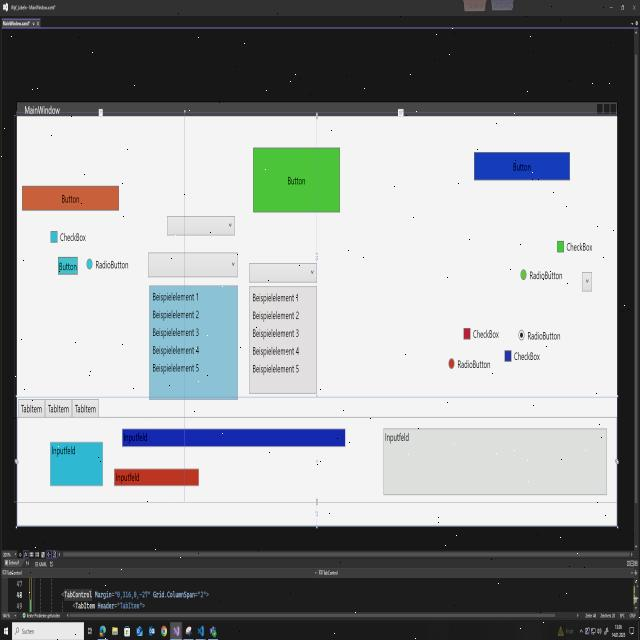button: (251, 141, 342, 217), (472, 148, 572, 184), (20, 180, 120, 215), (55, 252, 80, 278)
checkbox: (50, 230, 58, 244), (463, 327, 471, 341), (504, 349, 512, 363), (556, 240, 564, 253)
dropdownMenu: (147, 251, 238, 401), (248, 262, 318, 394), (167, 215, 235, 236), (581, 270, 593, 293)
input: (382, 426, 608, 498), (120, 425, 347, 450), (49, 437, 104, 490), (112, 465, 200, 490)
label: (528, 331, 562, 342), (457, 359, 491, 370), (529, 270, 563, 280), (473, 328, 499, 340), (95, 260, 128, 269), (566, 242, 592, 253), (514, 351, 540, 362), (60, 232, 86, 242)
menuItem: (252, 292, 300, 304), (252, 364, 300, 376), (152, 327, 198, 339), (152, 309, 200, 320), (252, 310, 300, 321), (252, 346, 300, 357), (152, 345, 199, 356), (152, 363, 199, 374), (252, 328, 300, 338), (153, 292, 200, 302)
radio: (448, 357, 455, 370), (86, 258, 93, 270), (518, 329, 525, 341), (520, 269, 527, 280)
tabControl: (70, 396, 100, 419), (17, 397, 46, 419), (44, 397, 73, 419)
